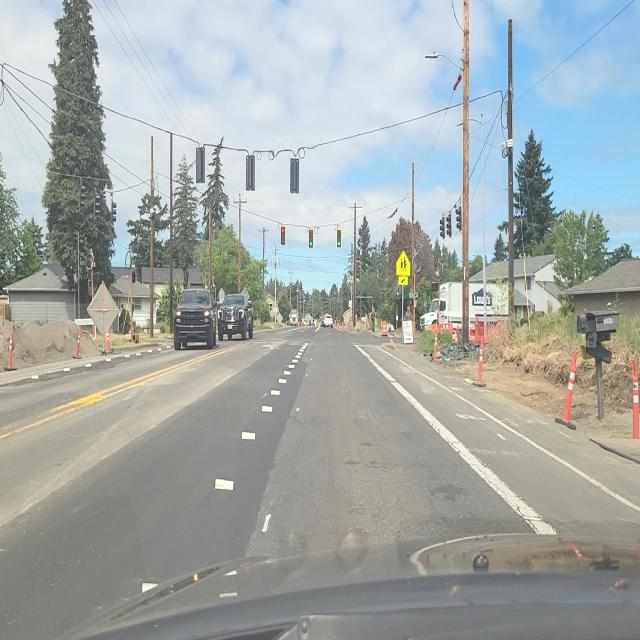car: (173, 288, 218, 350), (216, 293, 254, 342), (288, 310, 300, 327), (322, 314, 334, 328)
crosswalk-sign: (396, 250, 410, 282)
delineator: (556, 351, 578, 431), (630, 362, 640, 441), (475, 326, 487, 387), (8, 328, 15, 369), (432, 322, 438, 362), (75, 326, 82, 358), (105, 328, 112, 353), (452, 324, 458, 345), (130, 322, 134, 342)
